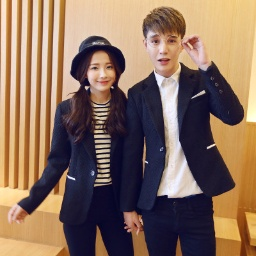face: (73, 45, 126, 103), (142, 6, 186, 72)
